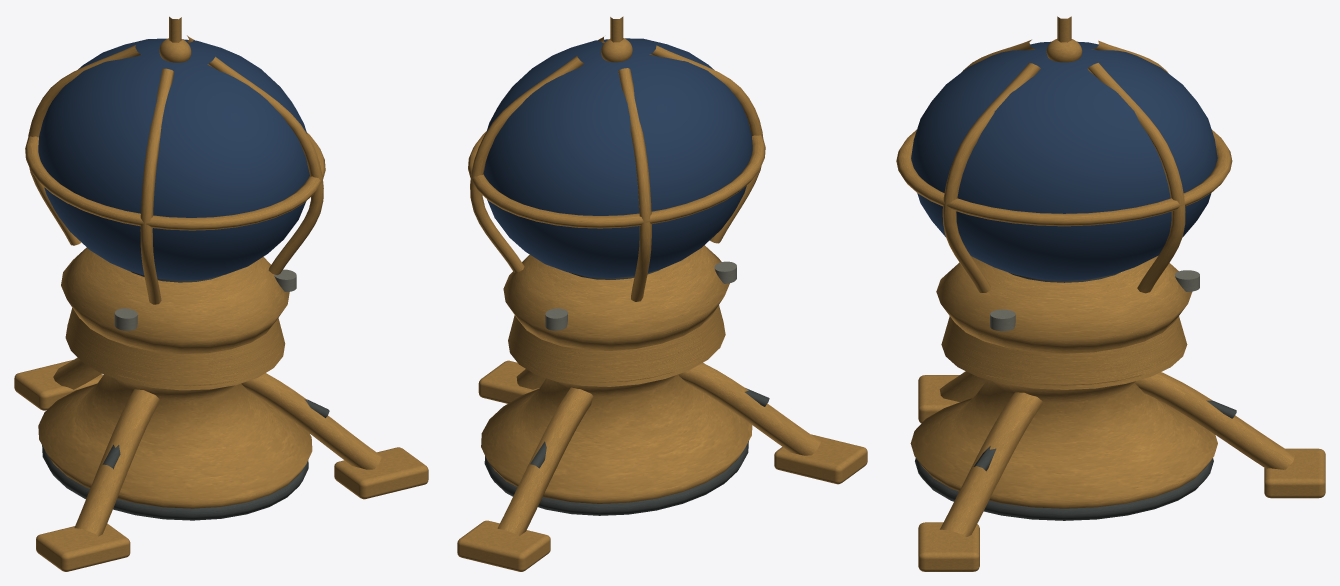
Rendered from crystal_orb.glb.
3 renders of one model, left to right at view 1: azimuth 30°, elevation 25°; view 2: azimuth 150°, elevation 25°; view 3: azimuth 270°, elevation 25°, orthographic. The views are drawn at different scales.
Visible parts, largest first — view 1: crystal_orb; view 2: crystal_orb; view 3: crystal_orb.
Boxes of the visible parts, x1=… form: crystal_orb: x1=14, y1=16, x2=428, y2=571; crystal_orb: x1=457, y1=16, x2=867, y2=571; crystal_orb: x1=896, y1=16, x2=1325, y2=571.
Size of the model in its own units: 1 by 1.2 by 1.
1 material, 1 textured.
